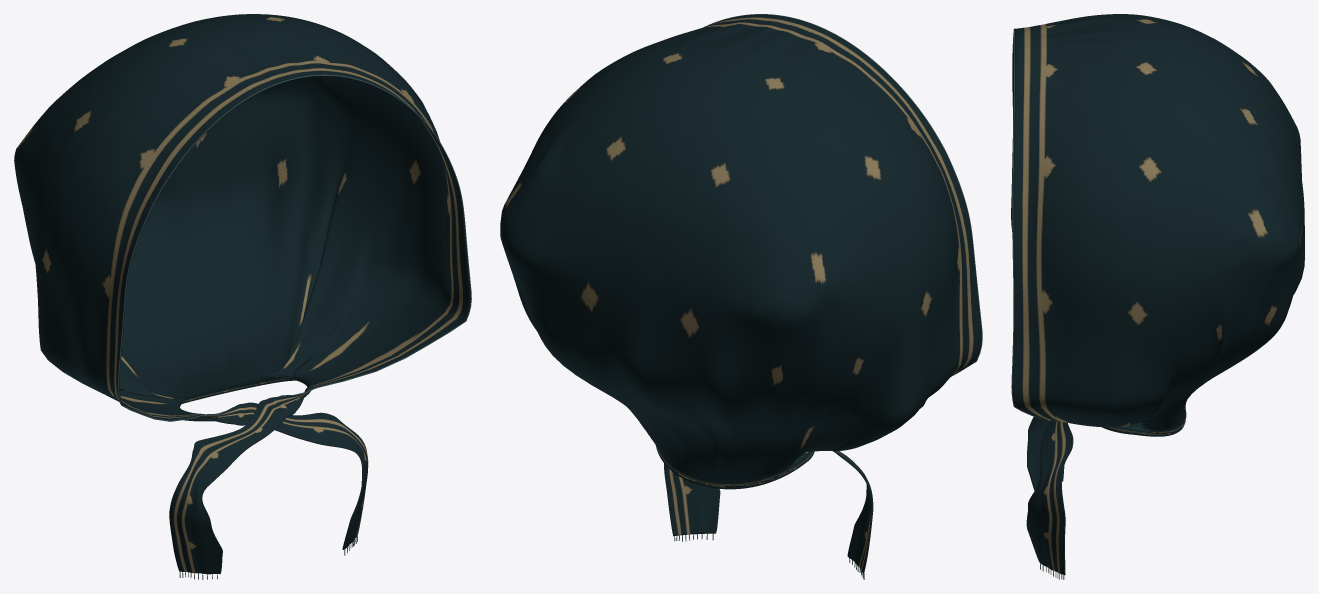
The model's file is Feminine-space-buns-jersey-pashmina249-headgear.glb.
3 renders of one model, left to right at view 1: azimuth 30°, elevation 25°; view 2: azimuth 150°, elevation 25°; view 3: azimuth 270°, elevation 25°, orthographic. The views are drawn at different scales.
Parts seen in each view (by area): view 1: 226 headgear / Headwear / continuous woven pashmina239, 226 headgear / Headwear / face edge239; view 2: 226 headgear / Headwear / continuous woven pashmina239, 226 headgear / Headwear / face edge239; view 3: 226 headgear / Headwear / continuous woven pashmina239, 226 headgear / Headwear / face edge239.
Part boxes in pixels (left/top/right/bottom): 226 headgear / Headwear / continuous woven pashmina239: left=14, top=14, right=470, bottom=574; 226 headgear / Headwear / face edge239: left=118, top=74, right=471, bottom=421; 226 headgear / Headwear / continuous woven pashmina239: left=500, top=14, right=981, bottom=573; 226 headgear / Headwear / face edge239: left=703, top=14, right=982, bottom=376; 226 headgear / Headwear / continuous woven pashmina239: left=1011, top=14, right=1304, bottom=575; 226 headgear / Headwear / face edge239: left=1011, top=28, right=1051, bottom=420.
Size of the model in its own units: 1.05 by 1.36 by 0.7241.
Materials: 3 (1 with a texture image).
